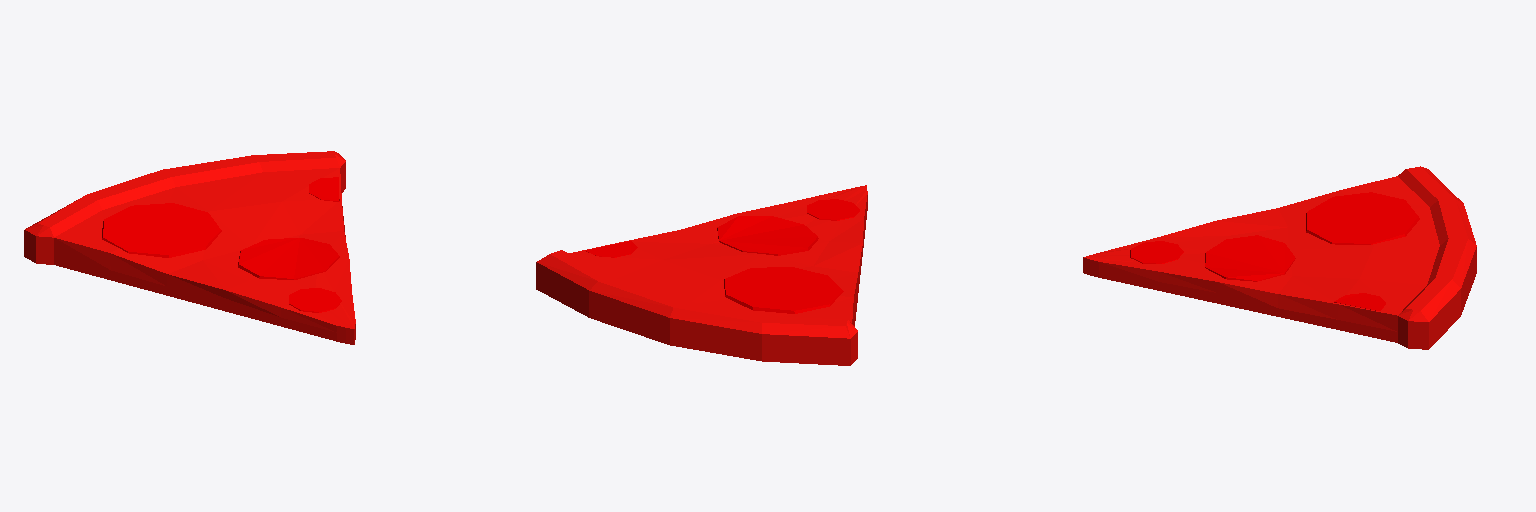
The model's file is RedSlice.obj.
3 renders of one model, left to right at view 1: azimuth 30°, elevation 25°; view 2: azimuth 150°, elevation 25°; view 3: azimuth 270°, elevation 25°, orthographic.
Parts seen in each view (by area): view 1: Pizza_Slice_Cube.003; view 2: Pizza_Slice_Cube.003; view 3: Pizza_Slice_Cube.003.
Boxes of the visible parts, box(x1,y1,x2,y2) form: Pizza_Slice_Cube.003: box(24, 151, 355, 344); Pizza_Slice_Cube.003: box(536, 185, 867, 365); Pizza_Slice_Cube.003: box(1083, 166, 1476, 349).
Size of the model in its own units: 1.07 by 0.1128 by 1.16.